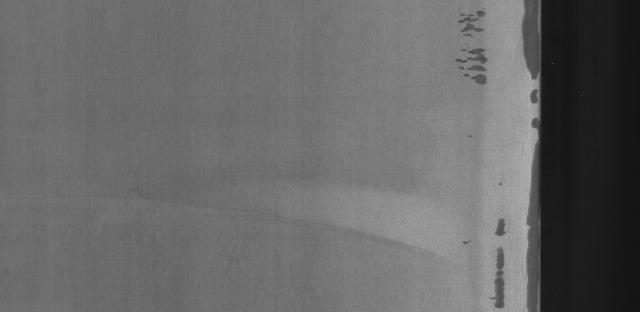oil_spot: (521, 0, 541, 310), (449, 9, 492, 98), (471, 222, 511, 306)
